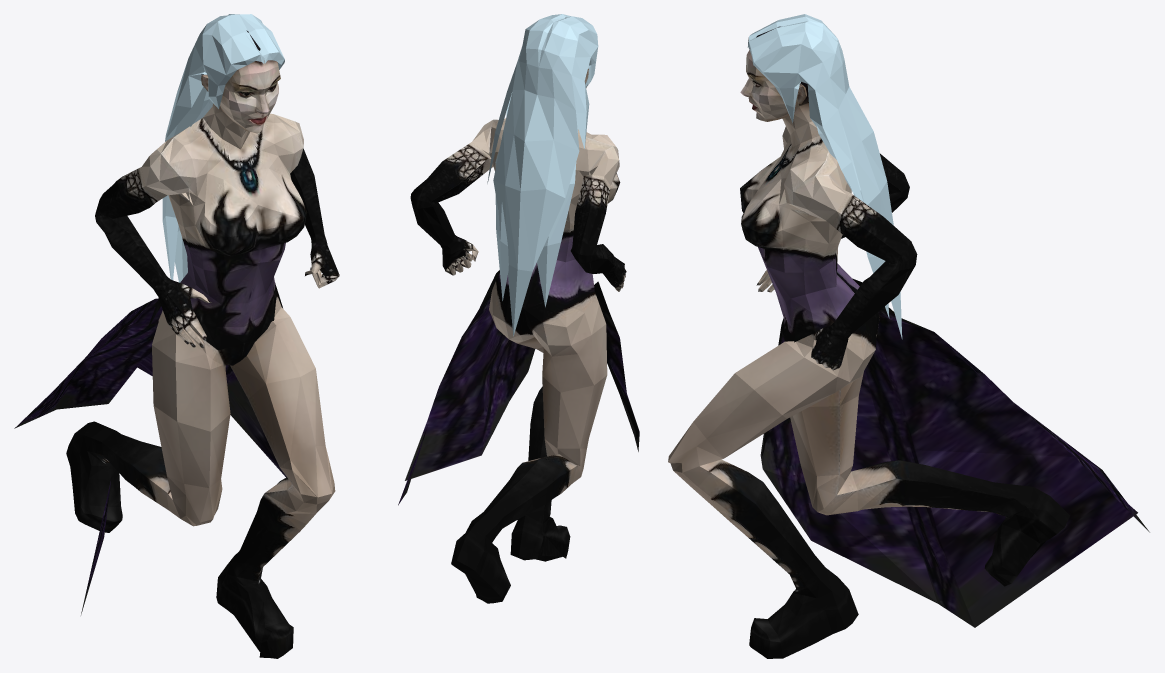
Rendered from running_008.obj.
3 views of the same model, side by side, from view 1: azimuth 30°, elevation 25°; view 2: azimuth 150°, elevation 25°; view 3: azimuth 270°, elevation 25° (orthographic). The views are drawn at different scales.
Parts seen in each view (by area): view 1: Plane.001_Plane.007, Plane.003_Plane.008, capelli.001_Plane.006; view 2: Plane.001_Plane.007, capelli.001_Plane.006, Plane.003_Plane.008; view 3: Plane.001_Plane.007, Plane.003_Plane.008, capelli.001_Plane.006.
Boxes of the visible parts, x1,y1,x2,y2 form: Plane.001_Plane.007: [66, 30, 339, 658]; Plane.003_Plane.008: [14, 283, 286, 614]; capelli.001_Plane.006: [162, 14, 284, 282]; Plane.001_Plane.007: [410, 17, 626, 603]; capelli.001_Plane.006: [487, 14, 598, 336]; Plane.003_Plane.008: [398, 270, 639, 505]; Plane.001_Plane.007: [668, 26, 1070, 658]; Plane.003_Plane.008: [760, 278, 1149, 627]; capelli.001_Plane.006: [747, 14, 902, 339].
Bounding box in the file's own units: 1.71 × 5.04 × 3.43.
